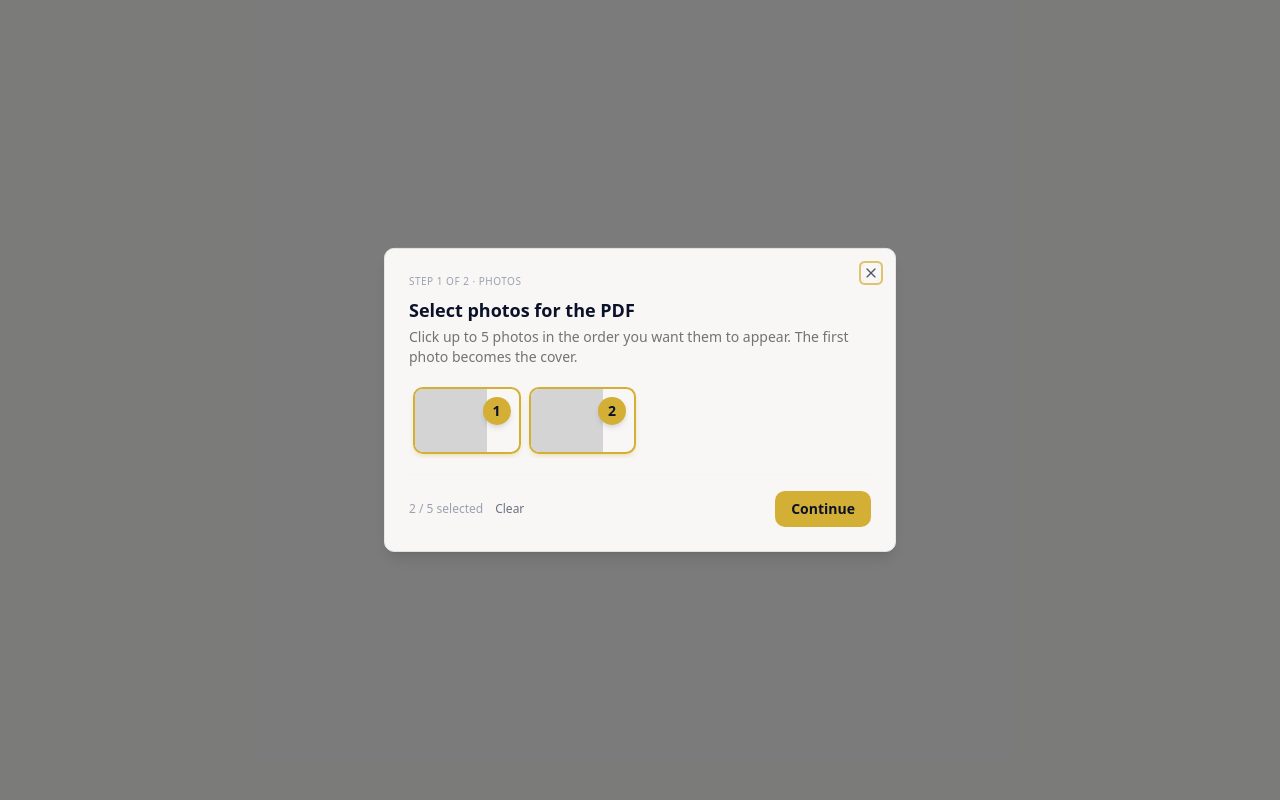
PdfExportWizard — edit-from-Languages flow › walks Photos → Languages → Edit → Save → back to Languages (no reset to Photos)
Expected: the heading "Select photos for the PDF" is shown, [409,298,635,322]
Click the button "Continue".
click(823, 509)  # box [775,491,871,527]
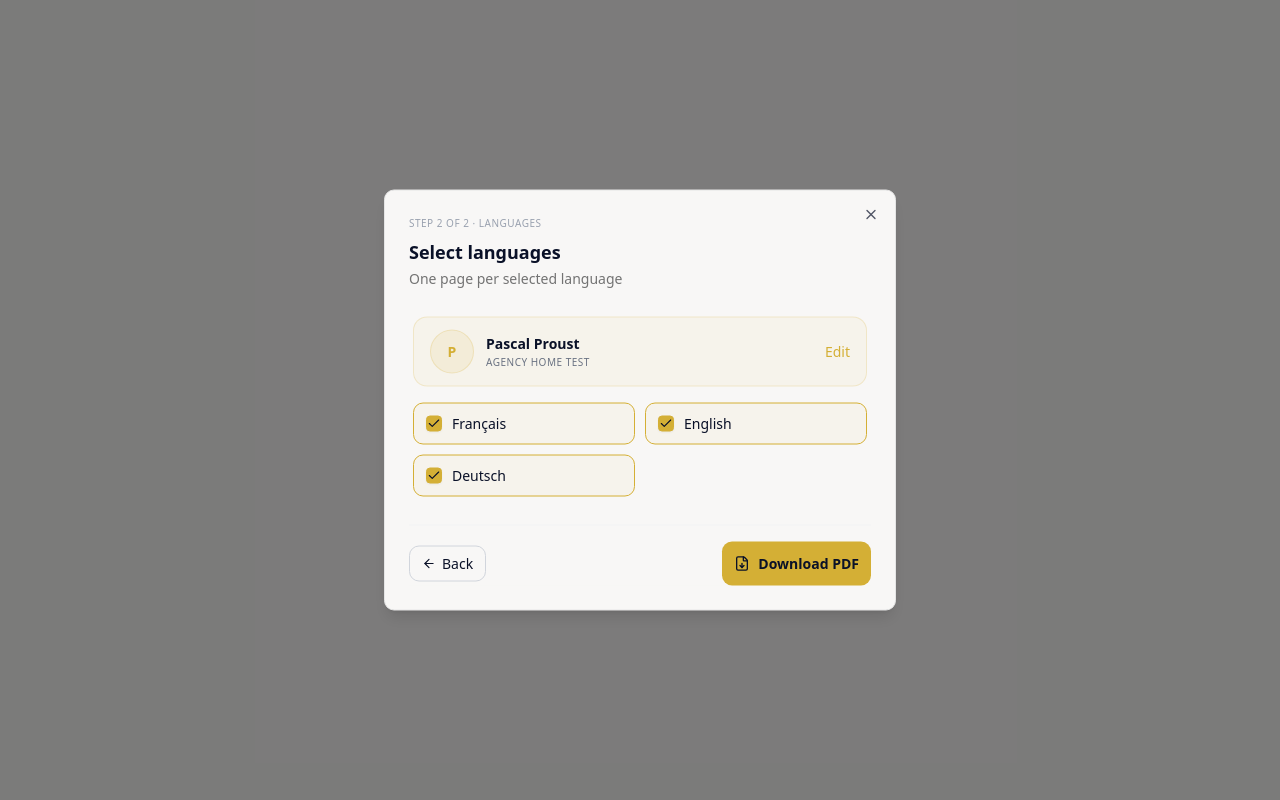
Result: the heading "Select languages" is shown at [409,240,561,264]
Click the button "Edit".
click(837, 352)  # box [825,342,850,362]
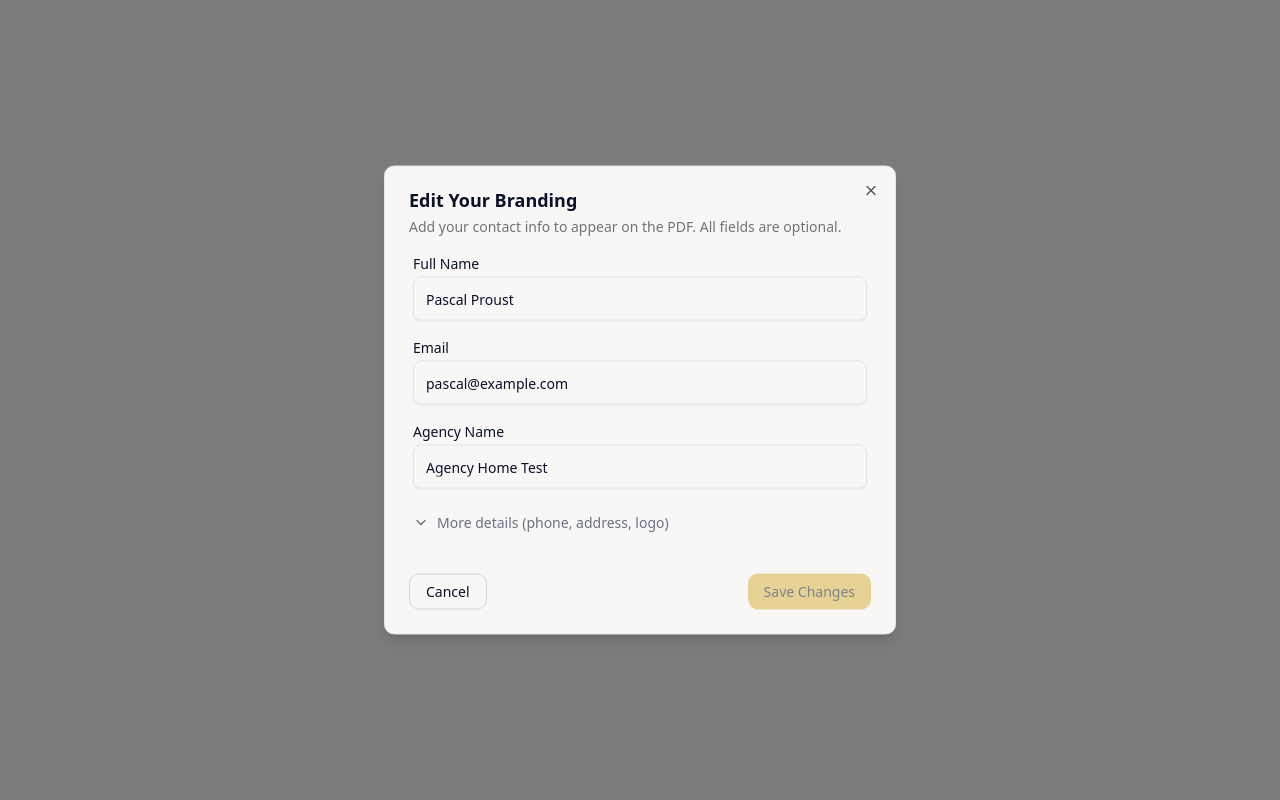
Result: the heading "Edit Your Branding" is shown at [409,188,577,212]
Replace the text in the field labelled "Email" with "new@example.com" at (640, 382), box [413,360,867,404]
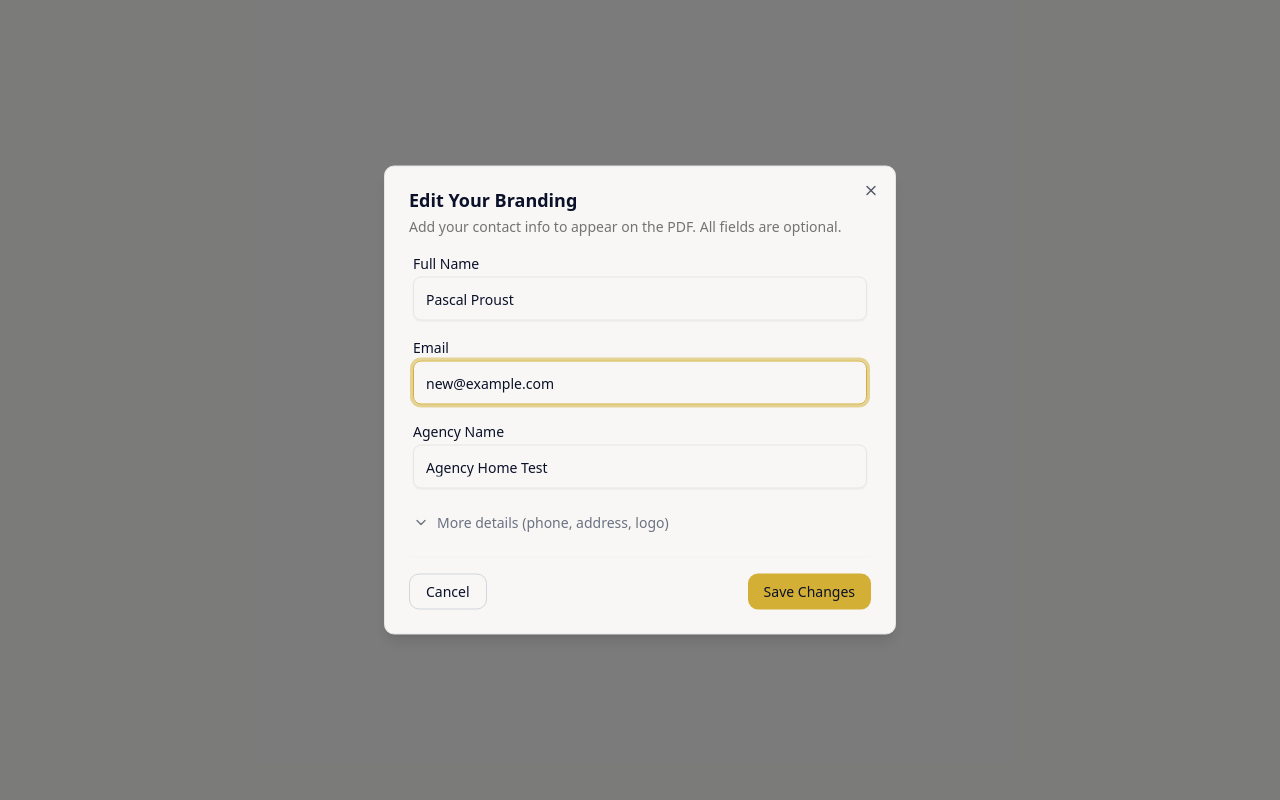
Click the button "Save Changes".
click(809, 592)  # box [748,574,871,610]
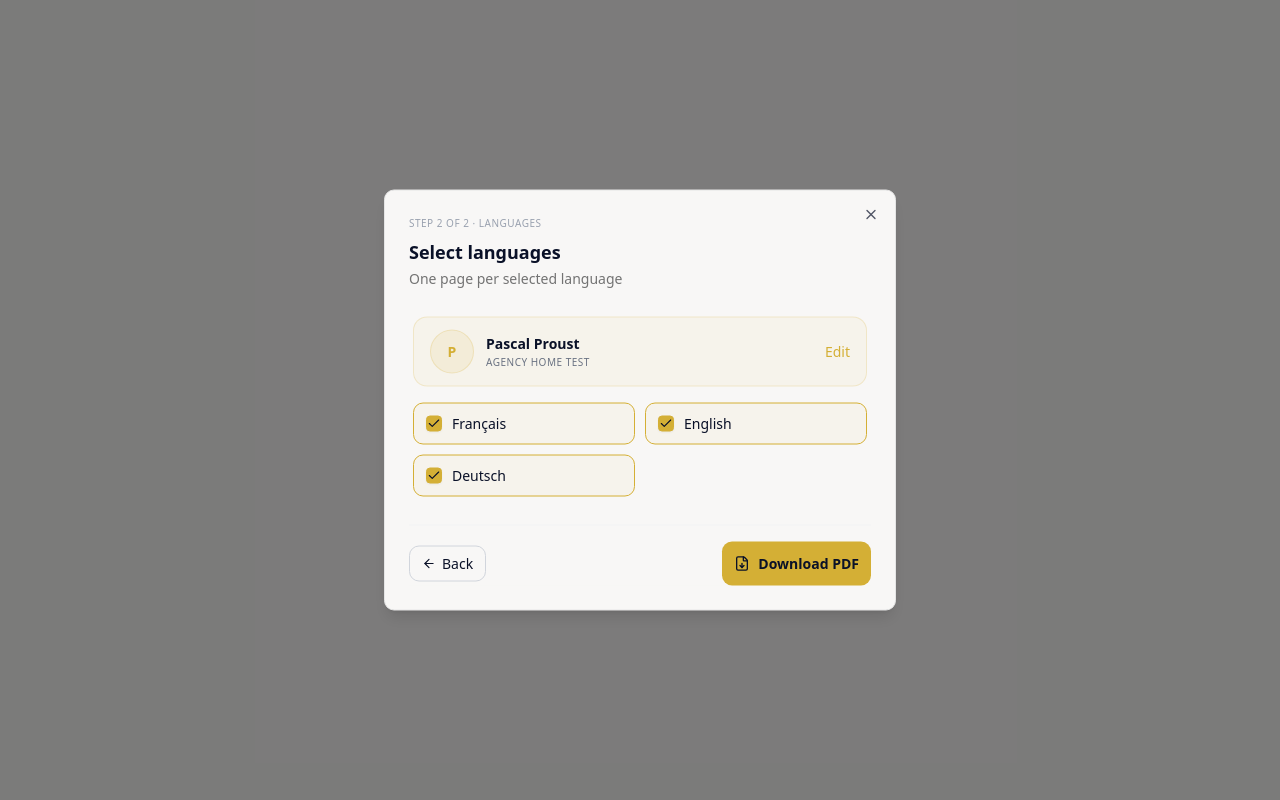
Expected: the heading "Select photos for the PDF" is not shown
Result: the heading "Select languages" is shown at [409,240,561,264]
